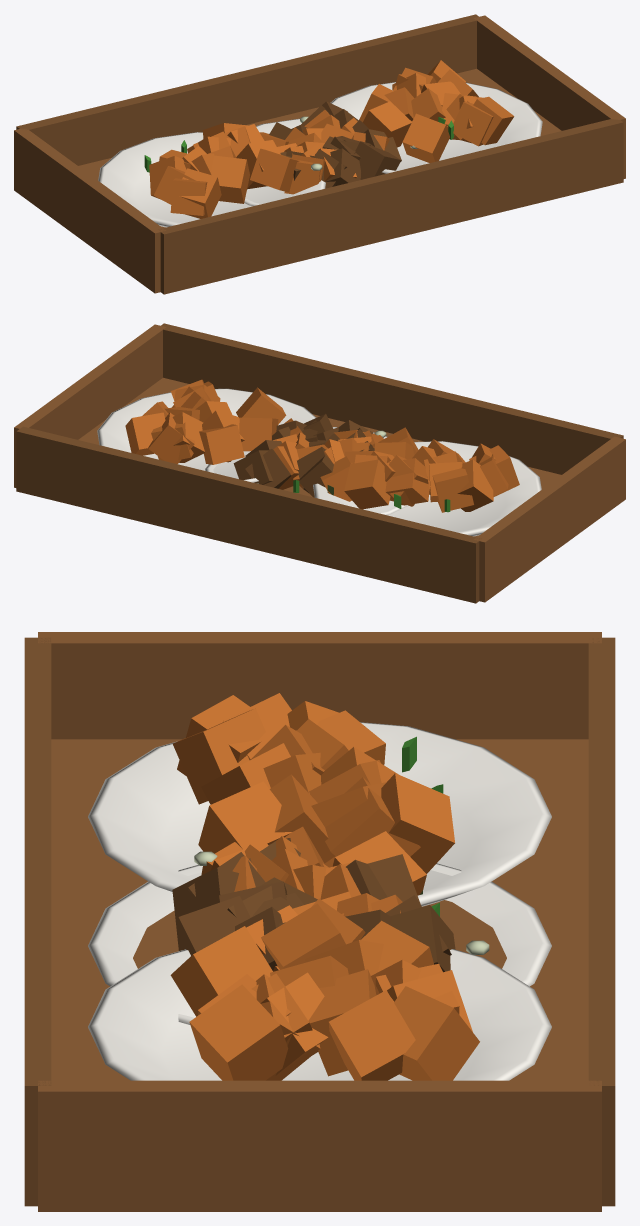
Rendered from Veg_BraisedTofu.fbx.
3 views of the same model, one above another, from view 1: azimuth 30°, elevation 25°; view 2: azimuth 150°, elevation 25°; view 3: azimuth 270°, elevation 25° (orthographic). The views are drawn at different scales.
Parts seen in each view (by area): view 1: Veg_BraisedTofu__Stack, Veg_BraisedTofu__Rotten, Veg_BraisedTofu; view 2: Veg_BraisedTofu__Stack, Veg_BraisedTofu__Rotten, Veg_BraisedTofu; view 3: Veg_BraisedTofu__Stack, Veg_BraisedTofu, Veg_BraisedTofu__Rotten.
Part boxes in pixels (<box>): Veg_BraisedTofu__Stack: <box>14,14,625,294</box>; Veg_BraisedTofu__Rotten: <box>269,101,417,188</box>; Veg_BraisedTofu: <box>244,110,429,206</box>; Veg_BraisedTofu__Stack: <box>14,323,625,603</box>; Veg_BraisedTofu__Rotten: <box>233,412,386,497</box>; Veg_BraisedTofu: <box>205,418,408,515</box>; Veg_BraisedTofu__Stack: <box>24,632,615,1211</box>; Veg_BraisedTofu: <box>88,826,551,1024</box>; Veg_BraisedTofu__Rotten: <box>172,838,489,972</box>.
Size of the model in its own units: 0.328 by 0.0453 by 0.178.
